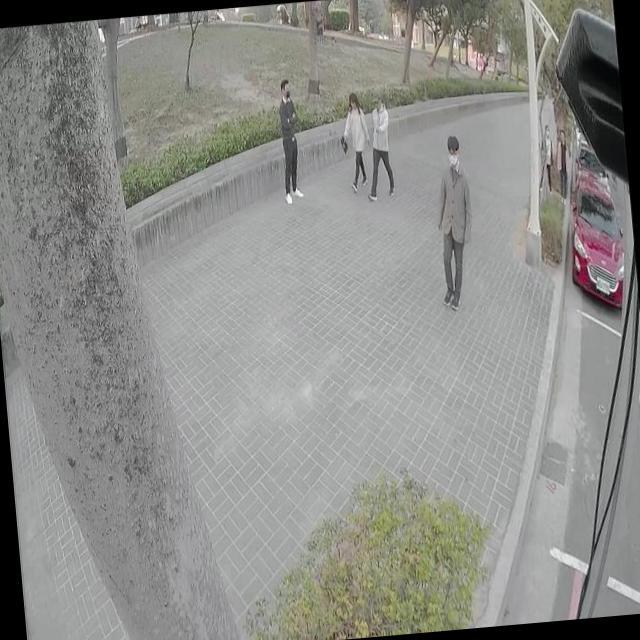person: (427, 132, 478, 306), (274, 78, 303, 205), (360, 88, 394, 196), (337, 90, 372, 186), (553, 128, 572, 204), (542, 124, 554, 186)
